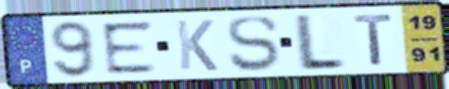9: (47, 19, 96, 79)
E: (98, 19, 160, 77)
K: (173, 18, 221, 73)
L: (294, 11, 349, 73)
S: (224, 14, 281, 74)
T: (351, 12, 396, 67)
